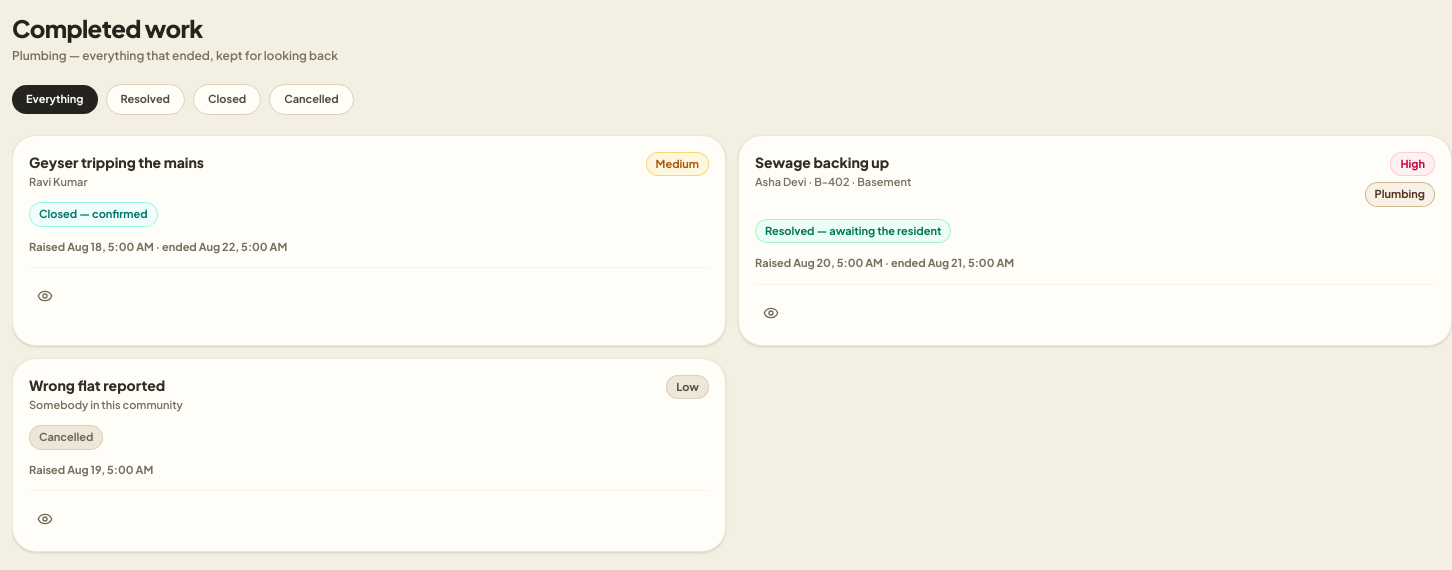
it: the completed-work archive › filters by each end condition through the chips
Expected: the heading "Sewage backing up" is shown, 755,152 -> 911,172
Click the button "Resolved".
click(145, 99)  # box 106,84 -> 185,114
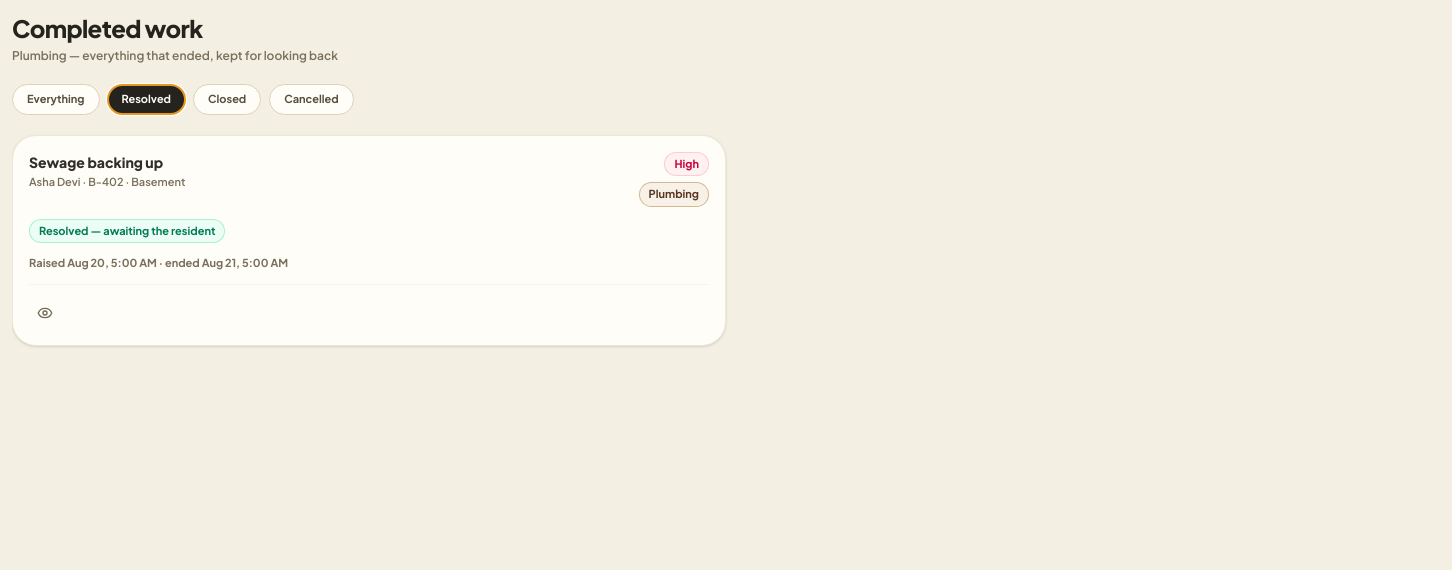
Expected: the heading "Sewage backing up" is shown, 29,152 -> 185,172
Result: the heading "Geyser tripping the mains" is gone
Result: the heading "Wrong flat reported" is gone
Click the button "Closed".
click(227, 99)  # box 193,84 -> 261,114
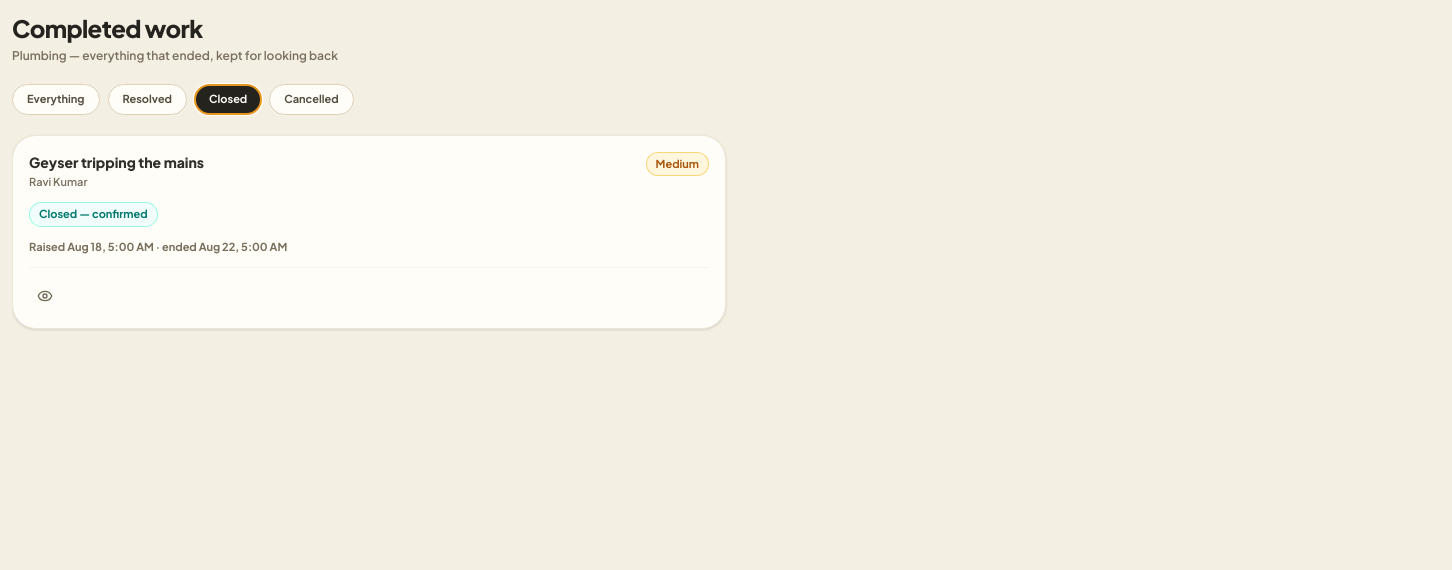
Result: the heading "Geyser tripping the mains" is shown at 29,152 -> 204,172
Result: the heading "Sewage backing up" is gone
Click the button "Cancelled".
click(312, 99)  # box 269,84 -> 354,114
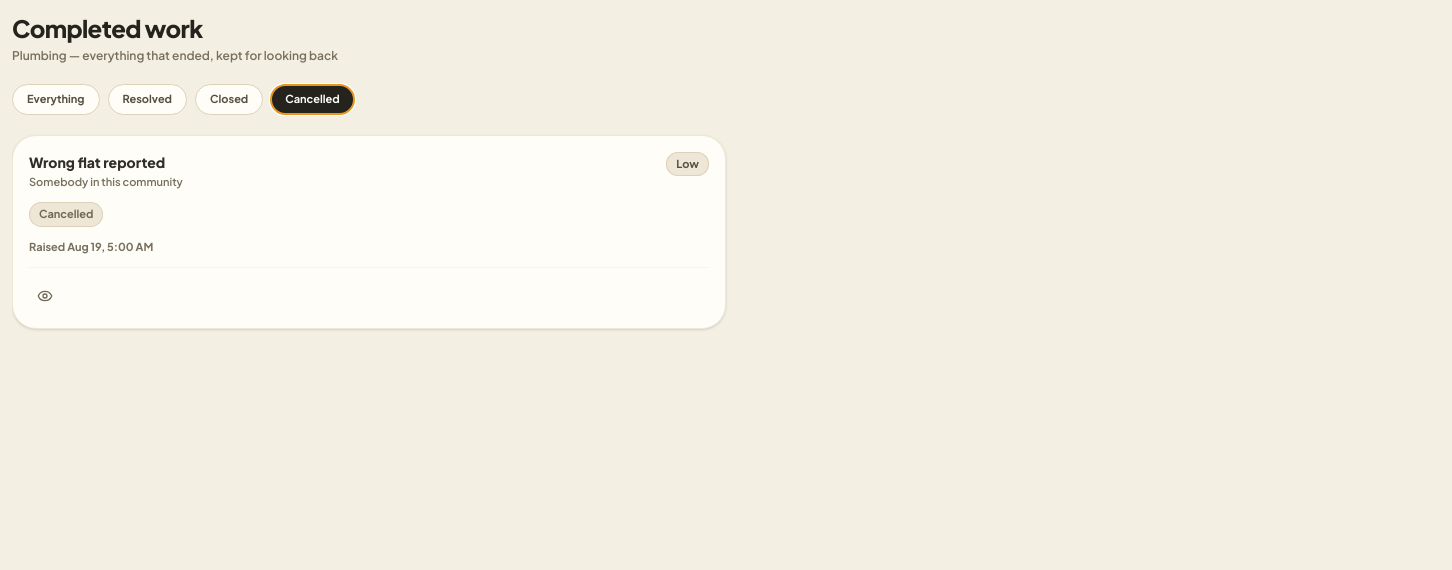
Result: the heading "Wrong flat reported" is shown at 29,152 -> 183,172
Result: the heading "Geyser tripping the mains" is gone
Click the button "Everything".
click(56, 99)  # box 12,84 -> 100,114
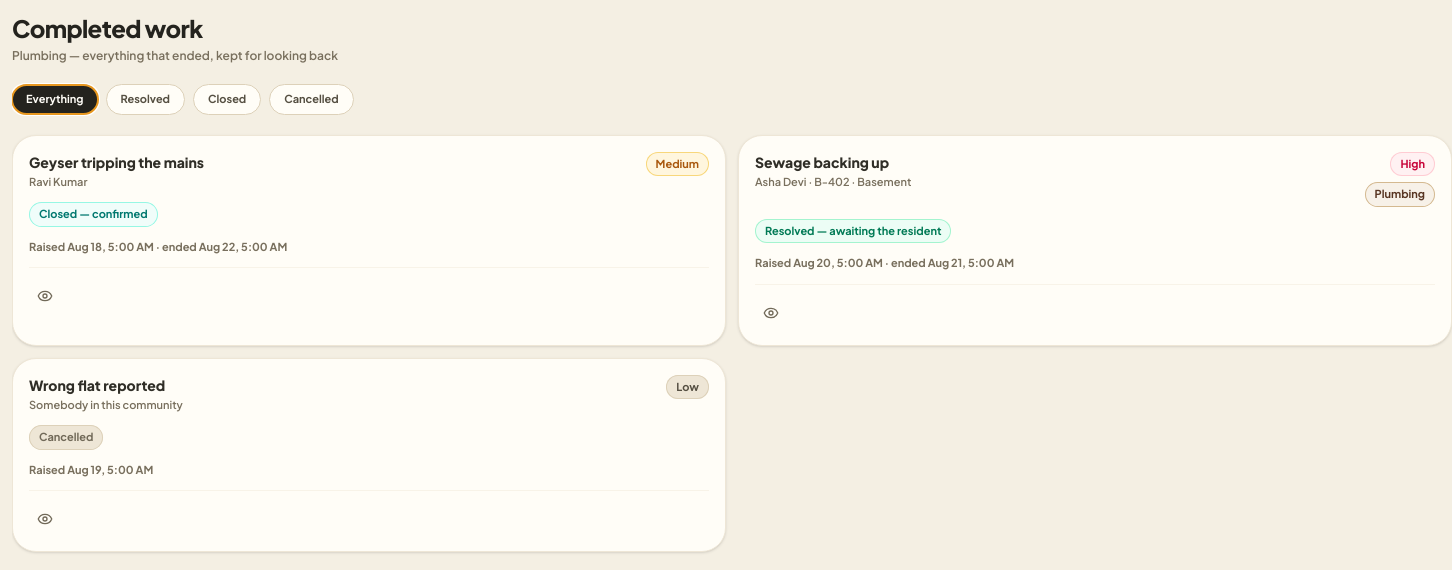
Result: the heading "Wrong flat reported" is shown at 29,374 -> 183,394
Result: the heading "Sewage backing up" is shown at 755,152 -> 911,172
Result: the heading "Geyser tripping the mains" is shown at 29,152 -> 204,172
